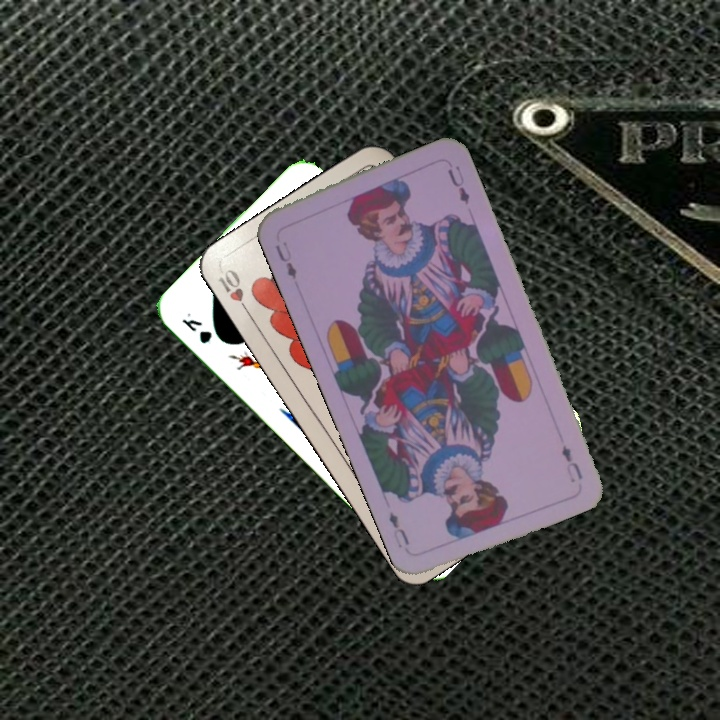EU: (271, 237, 300, 282), (557, 441, 585, 485)
GK: (178, 315, 215, 347)
H10: (213, 265, 254, 320)
